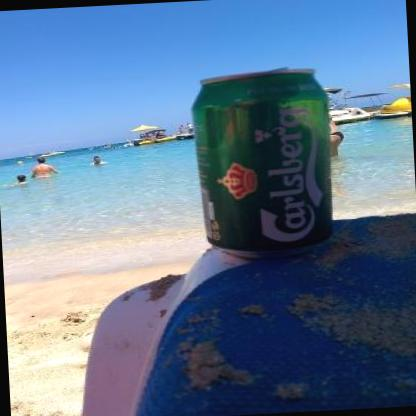alumunium_can: (188, 62, 340, 262)
